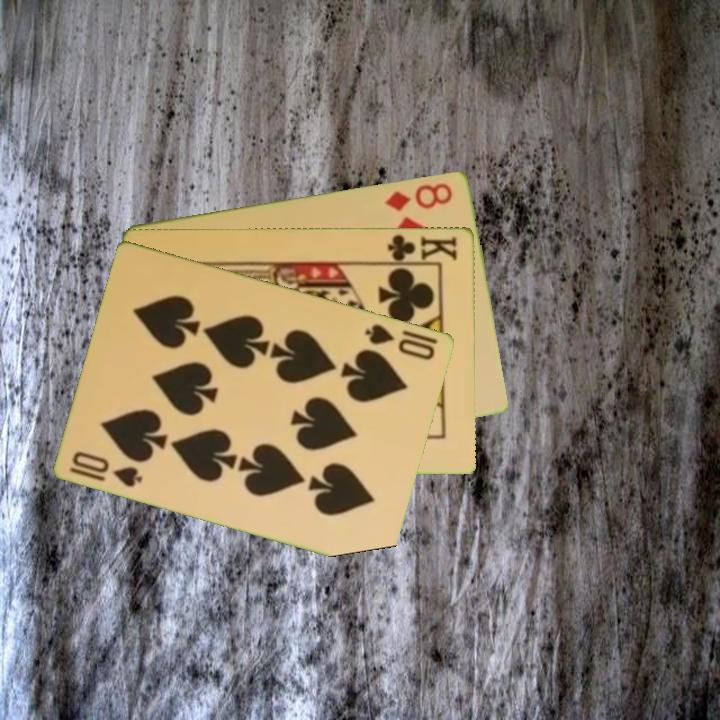10s: (67, 447, 146, 490), (362, 320, 438, 363)
8d: (382, 178, 456, 213)
Kc: (381, 231, 460, 265)
